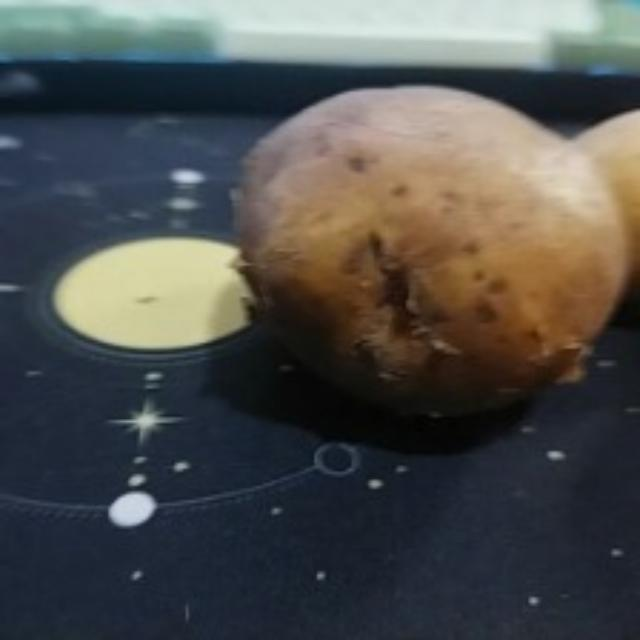Damaged potato: (226, 73, 640, 421)
Potato: (562, 105, 640, 289)
